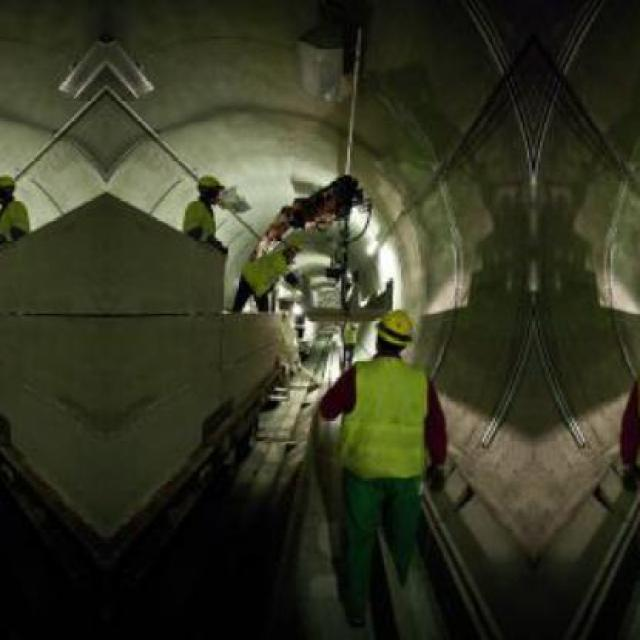helmet: (375, 307, 419, 351), (195, 173, 226, 202), (0, 172, 19, 203)
